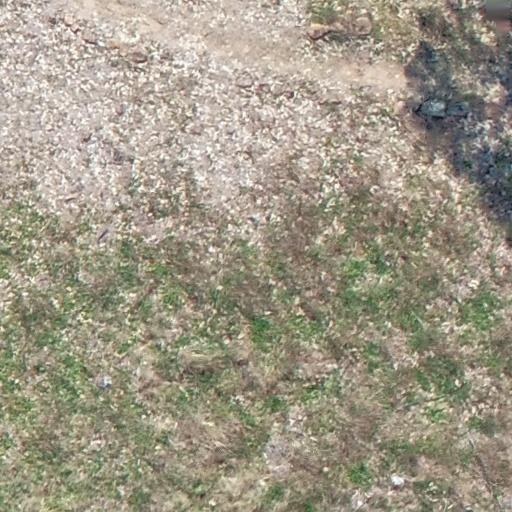stone: (387, 474, 406, 488), (99, 375, 113, 389), (114, 103, 126, 117), (49, 297, 60, 311), (81, 132, 93, 144), (284, 90, 295, 100), (258, 478, 267, 488), (355, 499, 363, 509), (358, 28, 362, 30)
